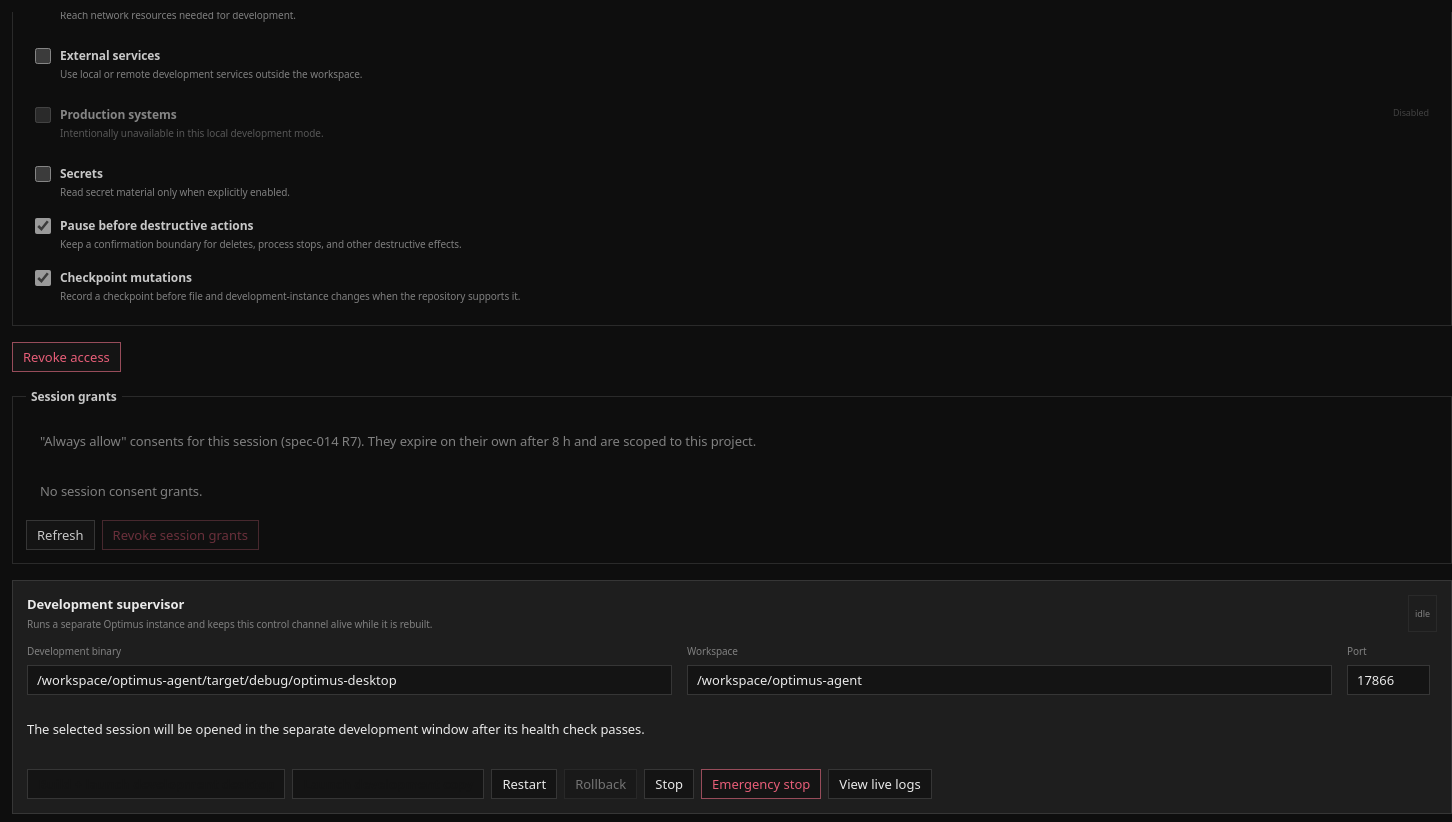
Test: DeveloperAccessPanel self-development controls › passes the selected session to the separate development desktop
(page scrolled)
Click the button "Build + launch development desktop" at (156, 784), box [27,769,286,799]
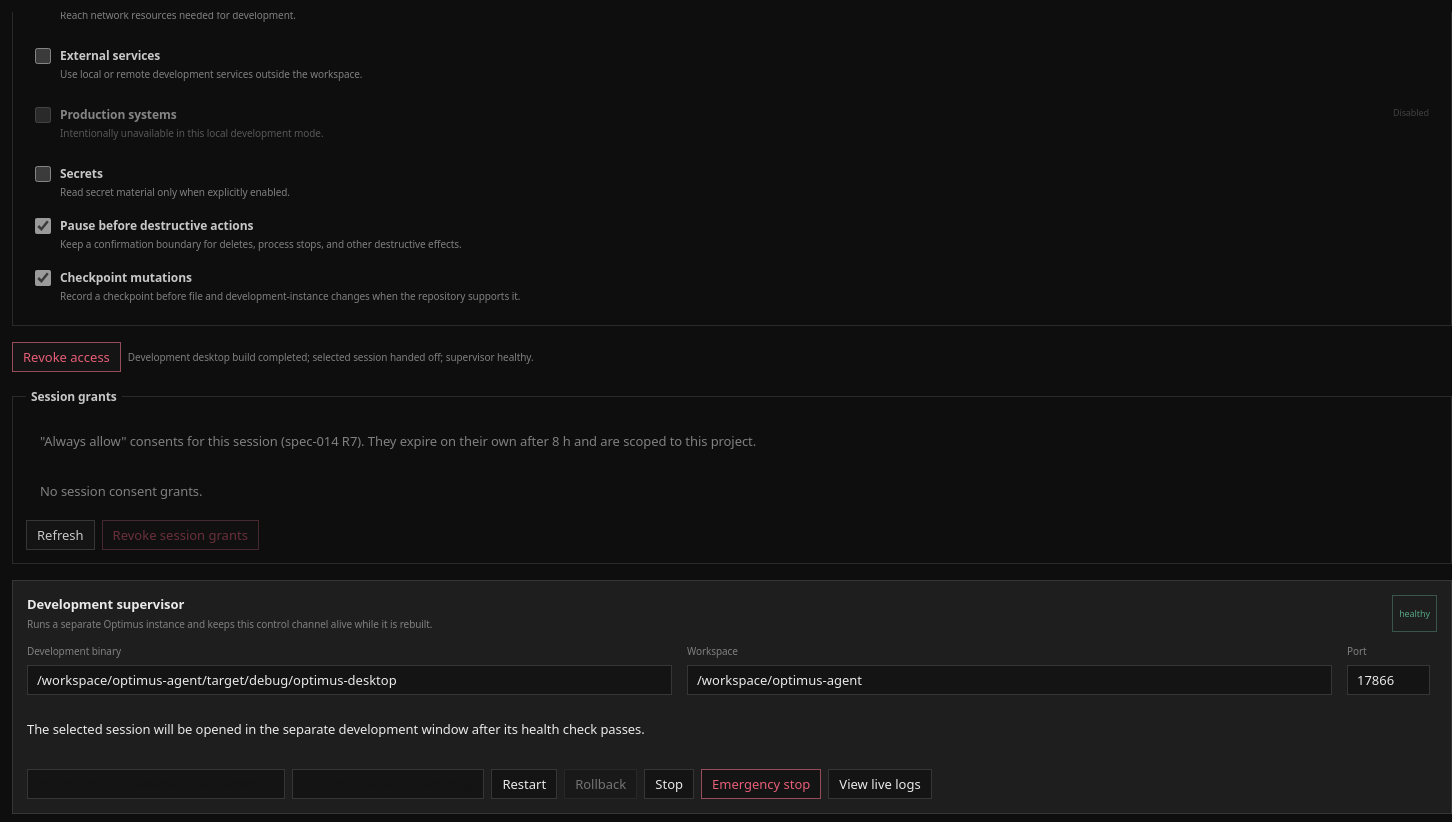
Check: the text "selected session handed off" is shown, box [128,350,534,364]
